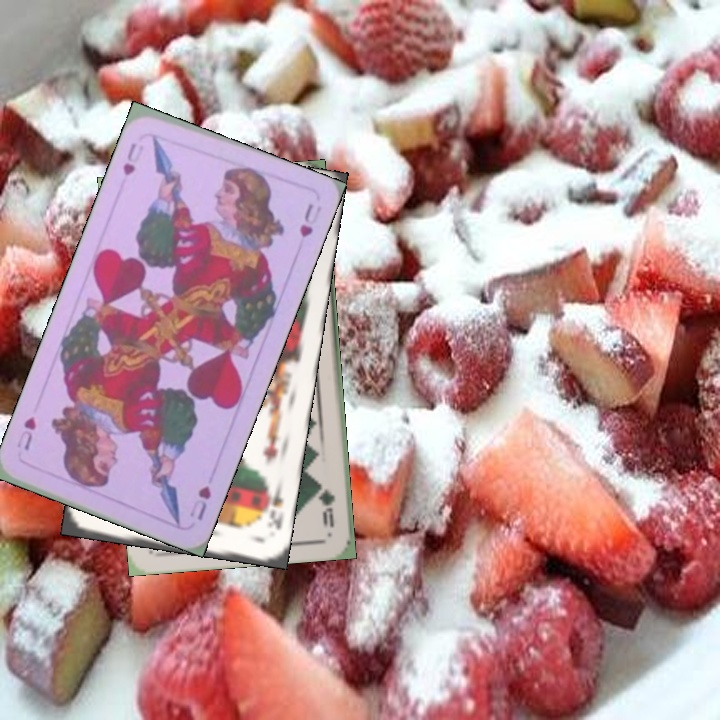G9: (315, 476, 337, 530)
HU: (185, 481, 214, 523), (118, 139, 147, 179)
SK: (259, 480, 286, 533)
